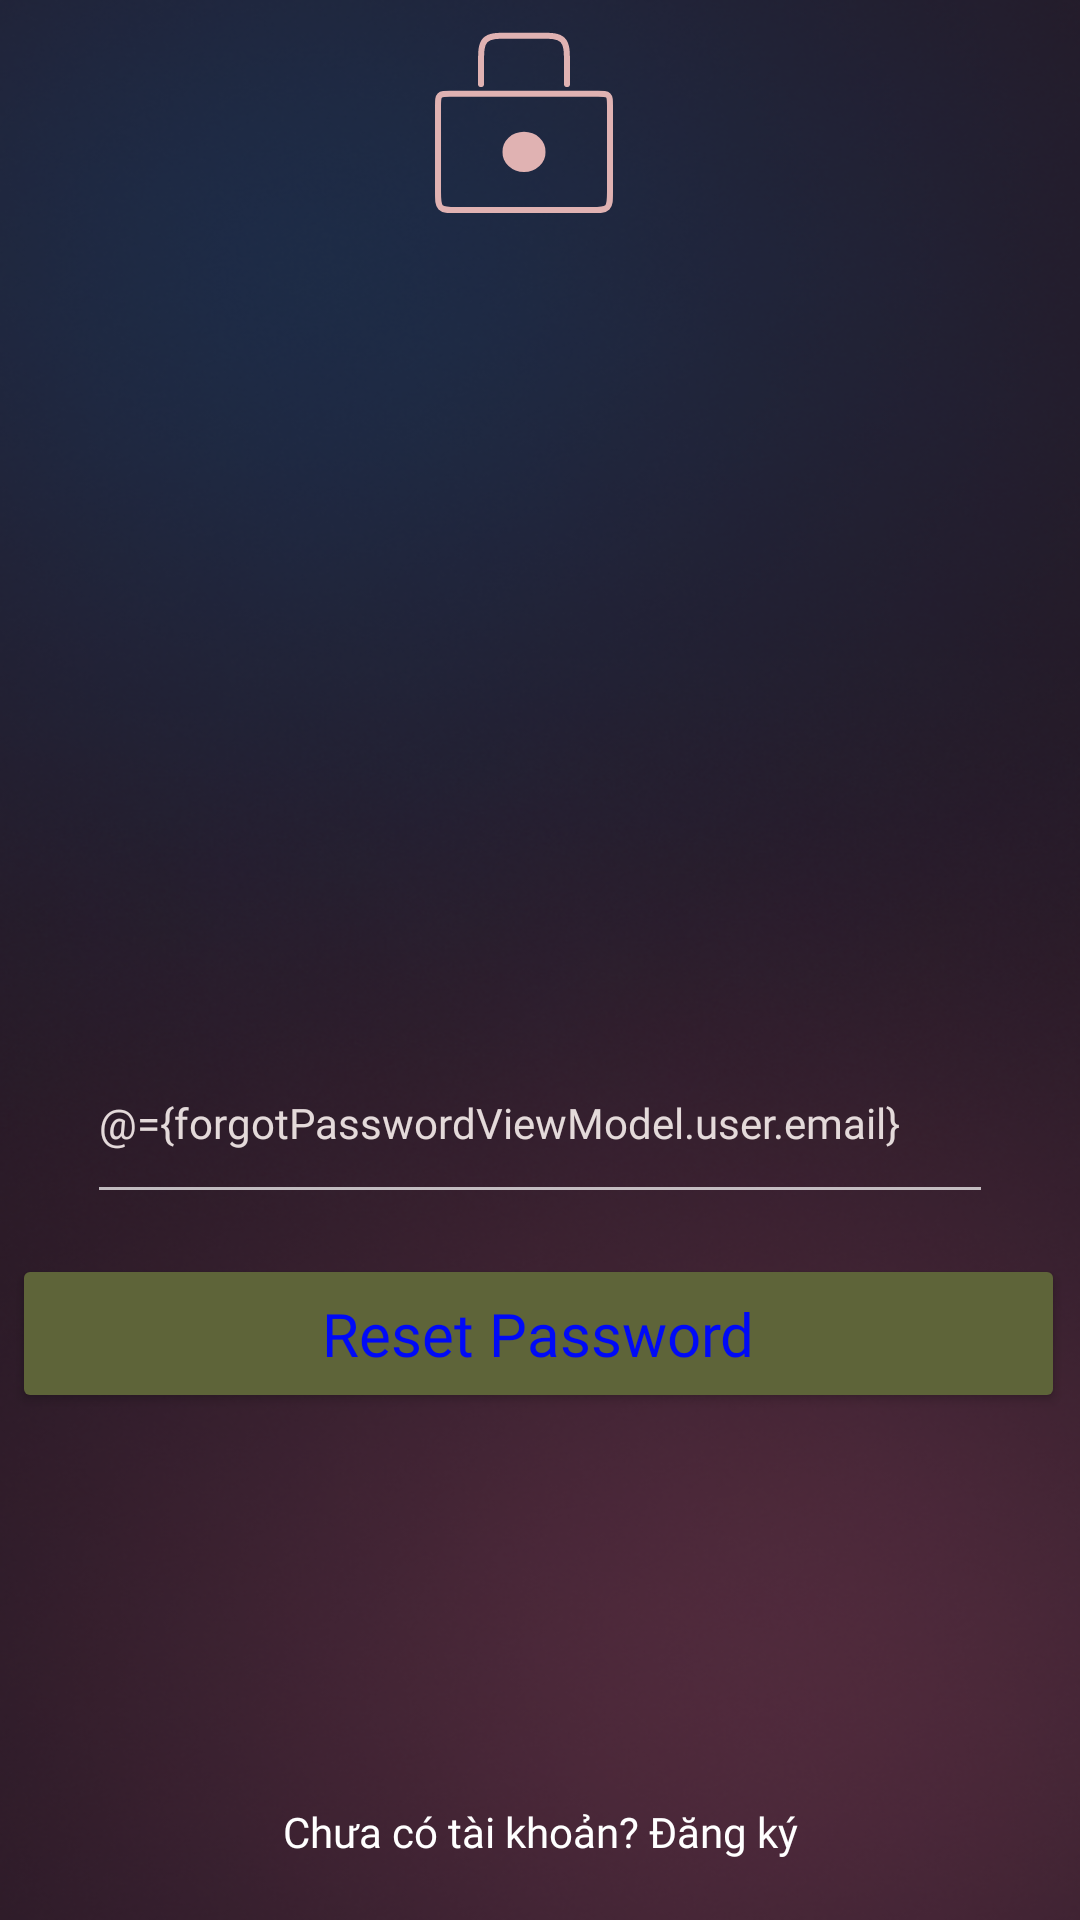

Icons on this 1080 x 1920 Android screen, each with the point to tap as [x,y]:
lock: [524,122]
